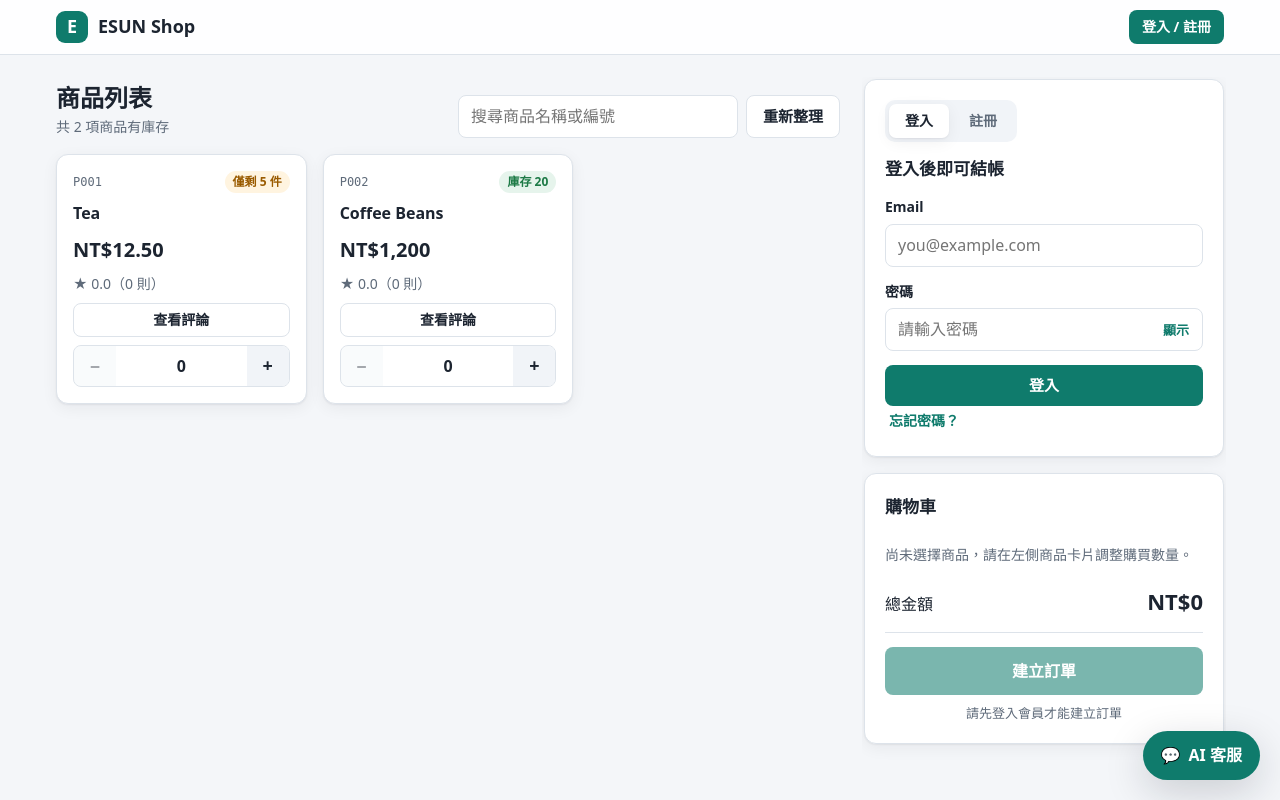
authentication UI › holds busy state and mode until login completes, then handles expiry
Type "member@example.com" into the field with id "auth-email".
click(1044, 245); type("member@example.com")  # box x1=885 y1=224 x2=1203 y2=266
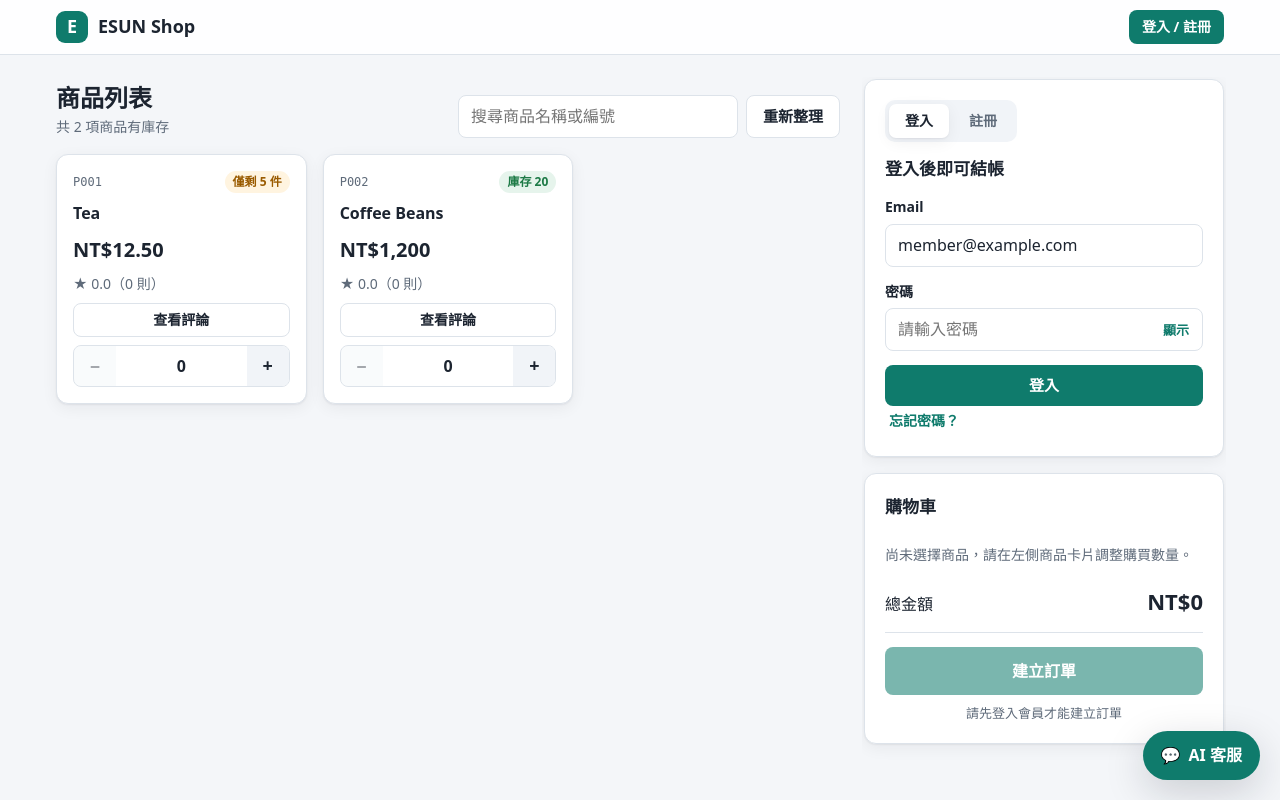
Type "password123" into the password field with id "auth-password".
click(1044, 330); type("password123")  # box x1=885 y1=308 x2=1203 y2=351
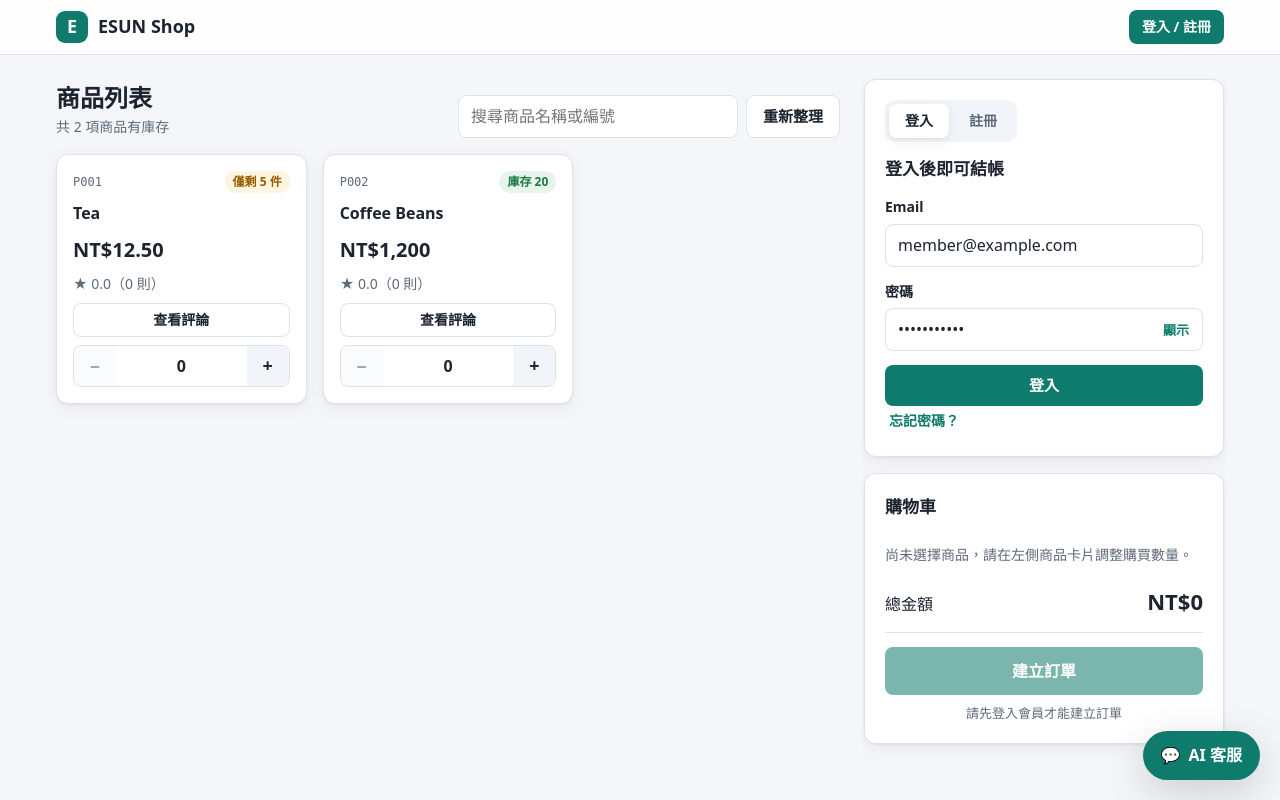
Submit the form "Email 密碼 顯示 登入 忘記密碼？", box x1=885 y1=196 x2=1203 y2=436
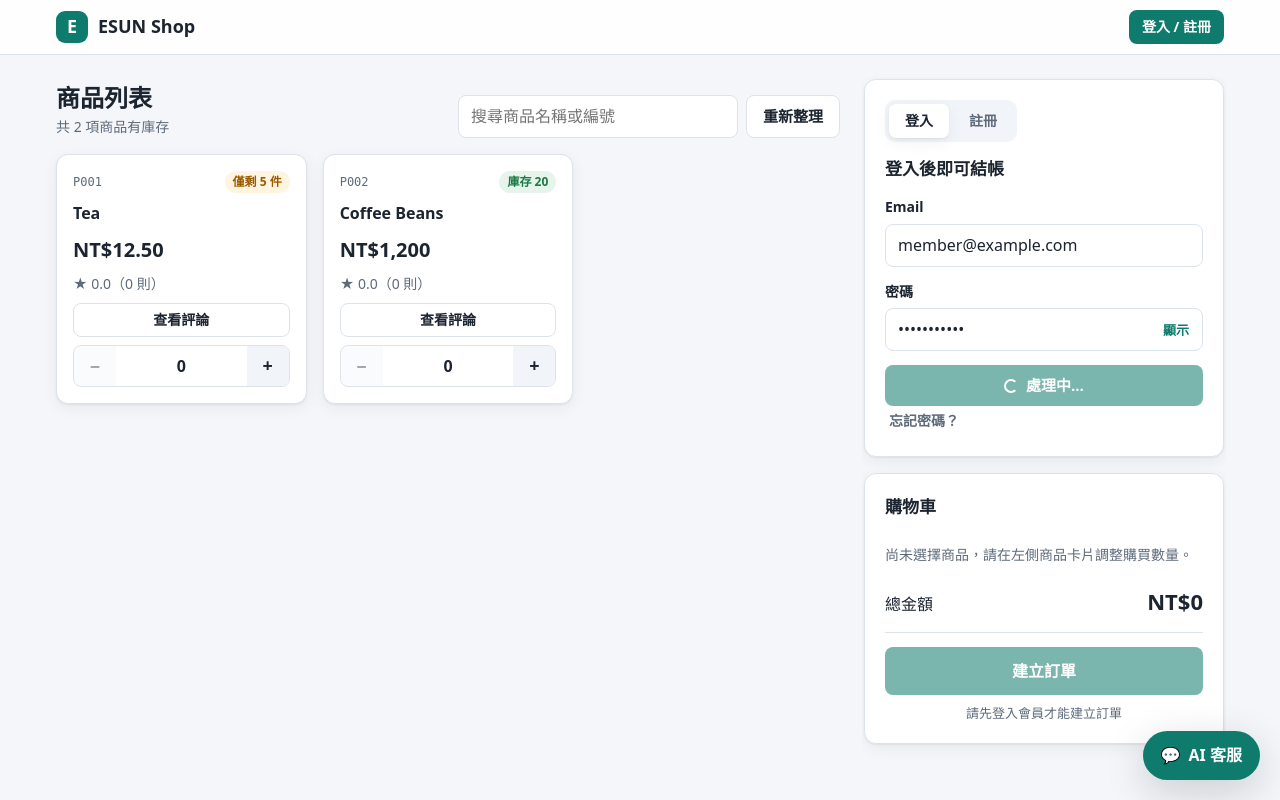
Expected: the button "處理中…" is disabled, x1=885 y1=365 x2=1203 y2=406
Submit the form "Email 密碼 顯示 處理中… 忘記密碼？", box x1=885 y1=196 x2=1203 y2=436
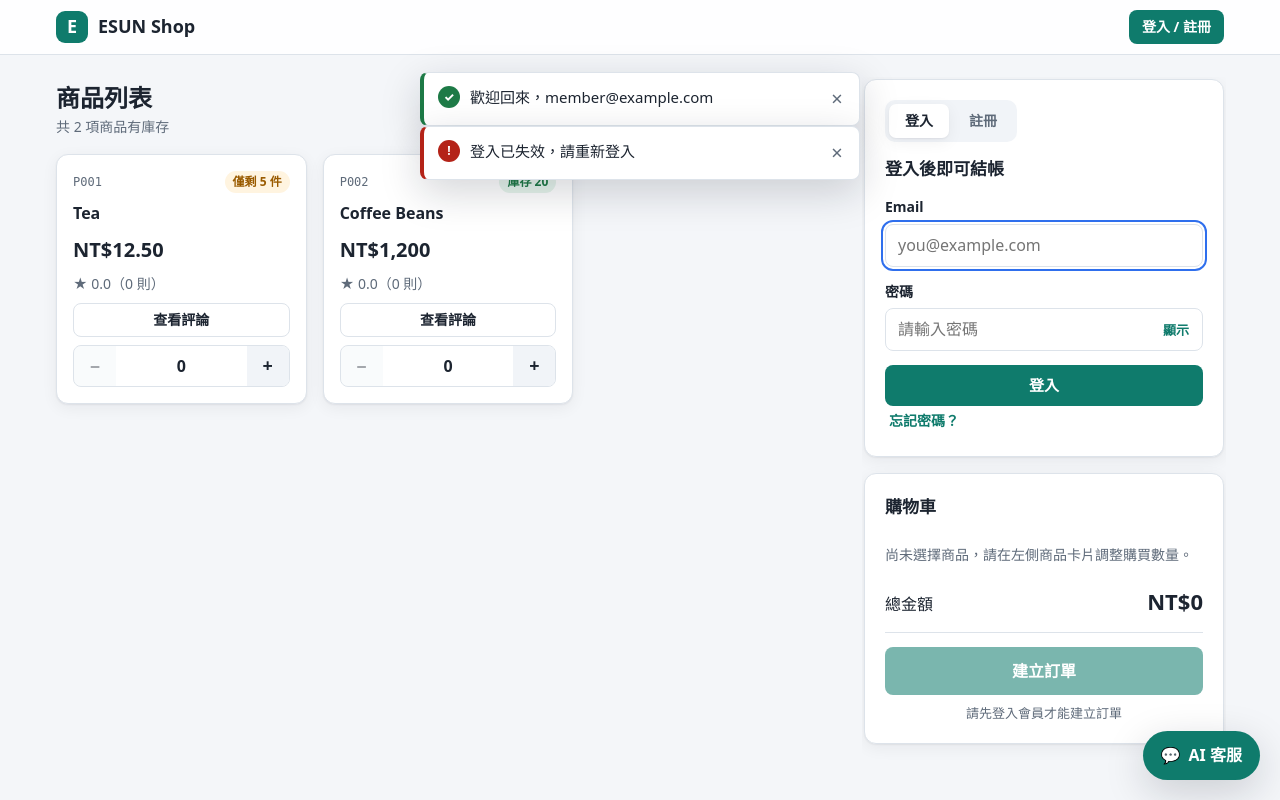
Expected: the text "歡迎回來，member@example.com" is shown, x1=470 y1=87 x2=713 y2=107
Expected: the text "登入已失效，請重新登入" is shown, x1=470 y1=141 x2=635 y2=161
